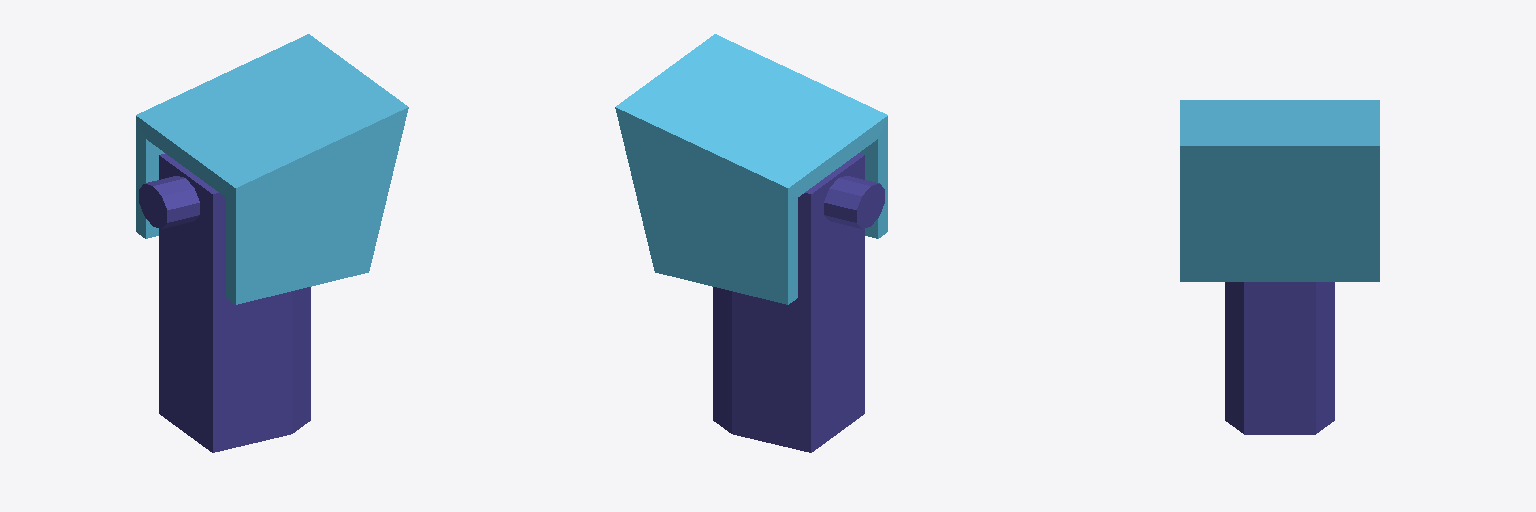
Rendered from handUL.obj.
The picture shows the model from 3 angles: view 1: azimuth 30°, elevation 25°; view 2: azimuth 150°, elevation 25°; view 3: azimuth 270°, elevation 25°; orthographic projection.
Visible parts, largest first — view 1: polySurface75; view 2: polySurface75; view 3: polySurface75.
Part boxes in pixels (left/top/right/bottom): polySurface75: left=136, top=34, right=408, bottom=452; polySurface75: left=615, top=34, right=887, bottom=452; polySurface75: left=1180, top=100, right=1379, bottom=434.
Bounding box in the file's own units: 3.76 × 5.6 × 3.16.